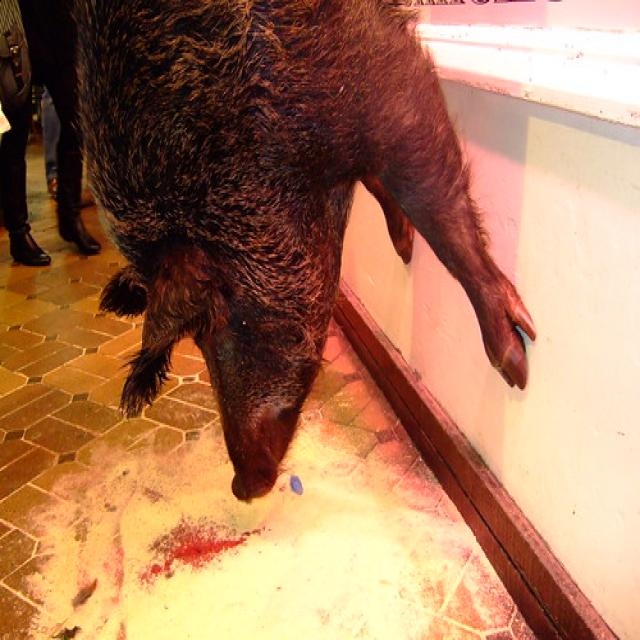boar: (62, 0, 554, 530)
